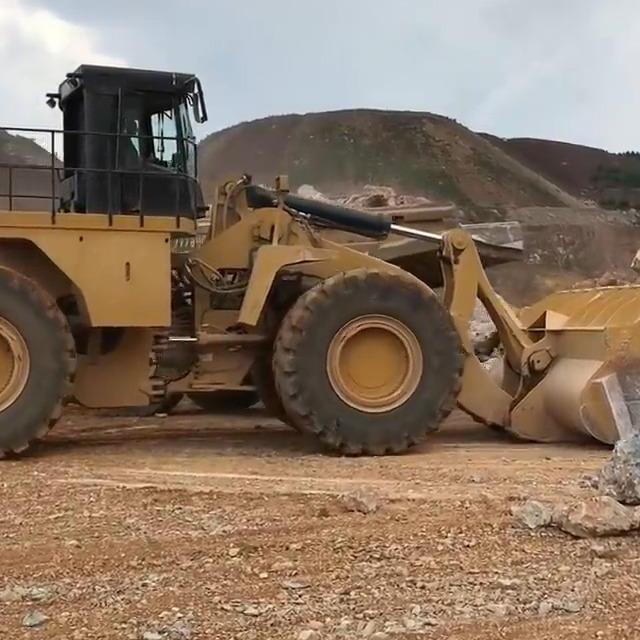Person: (124, 121, 156, 168)
wheel loader: (0, 55, 640, 469)
